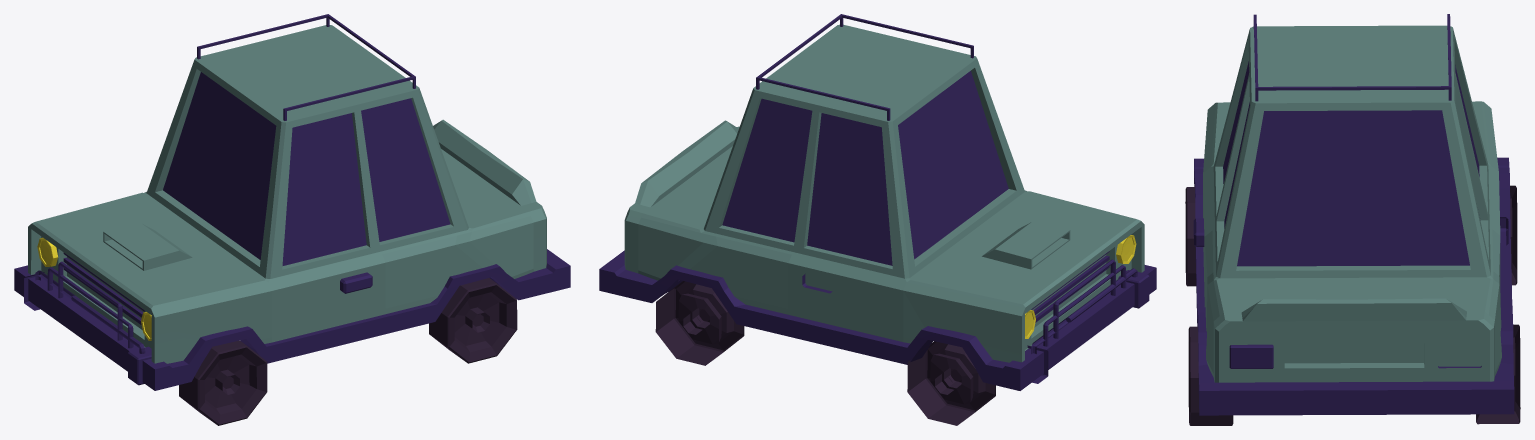
Rendered from carcolored 2.fbx.
3 renders of one model, left to right at view 1: azimuth 30°, elevation 25°; view 2: azimuth 150°, elevation 25°; view 3: azimuth 270°, elevation 25°, orthographic. The views are drawn at different scales.
Visible parts, largest first — view 1: pCylinder36.003; view 2: pCylinder36.003; view 3: pCylinder36.003.
Boxes of the visible parts, bbox=[...] form: pCylinder36.003: bbox=[14, 14, 570, 425]; pCylinder36.003: bbox=[599, 14, 1156, 425]; pCylinder36.003: bbox=[1185, 14, 1520, 425].
Bounding box in the file's own units: 1791 × 1093 × 1074.
